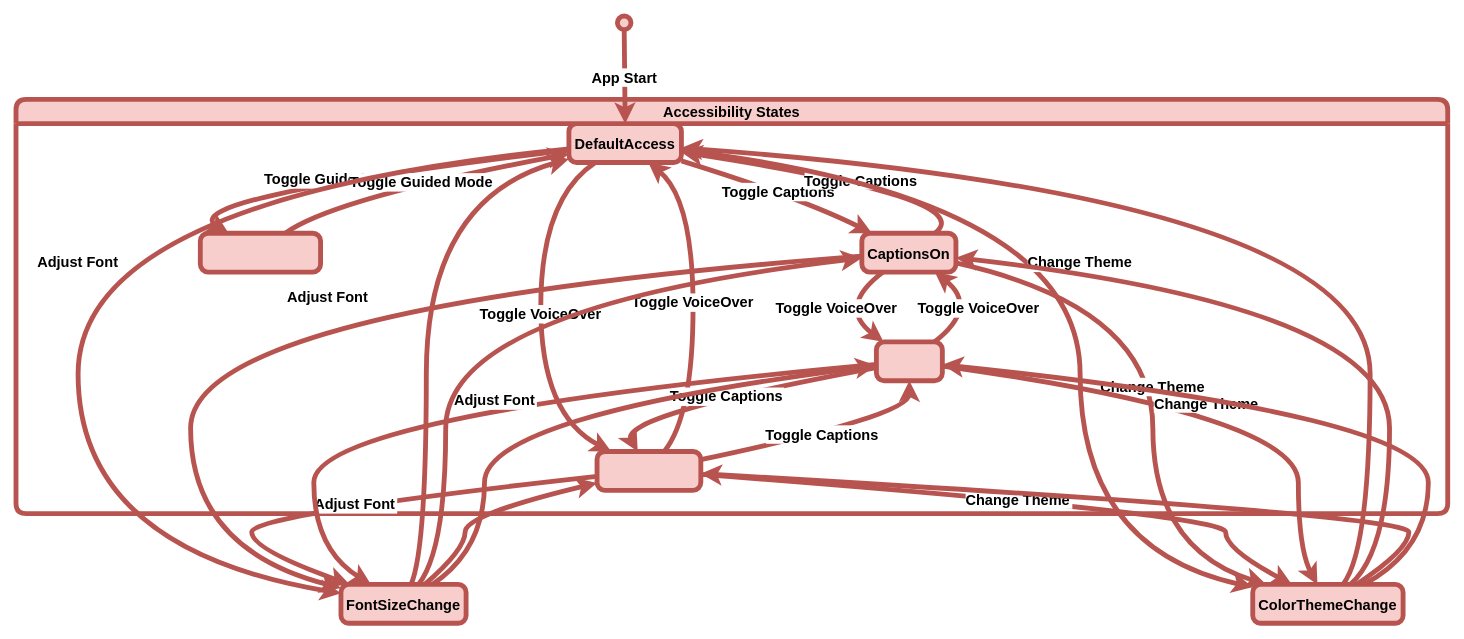
Some shapes in this 1464 by 639 pixel diagram are drawn without their labels. Here are the shapes that lost their labels. From the top down, the box of each, then its label:
(197, 230, 323, 274): GuidedModeOn
(873, 339, 944, 383): BothOn
(594, 449, 703, 492): VoiceOverOn
